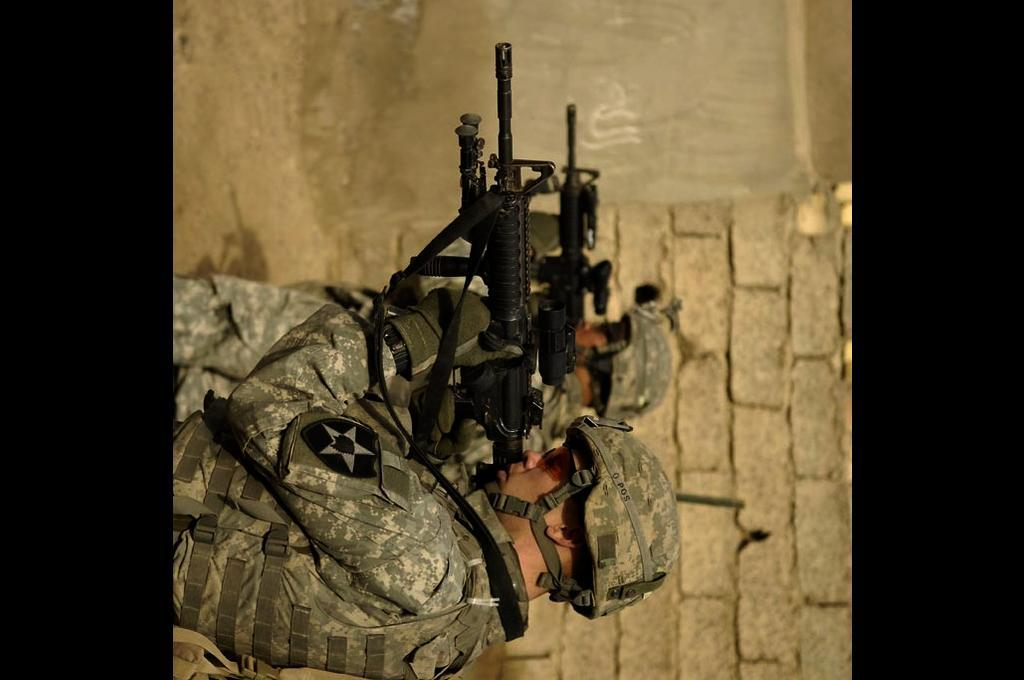gun: (412, 45, 576, 474), (543, 105, 608, 330)
